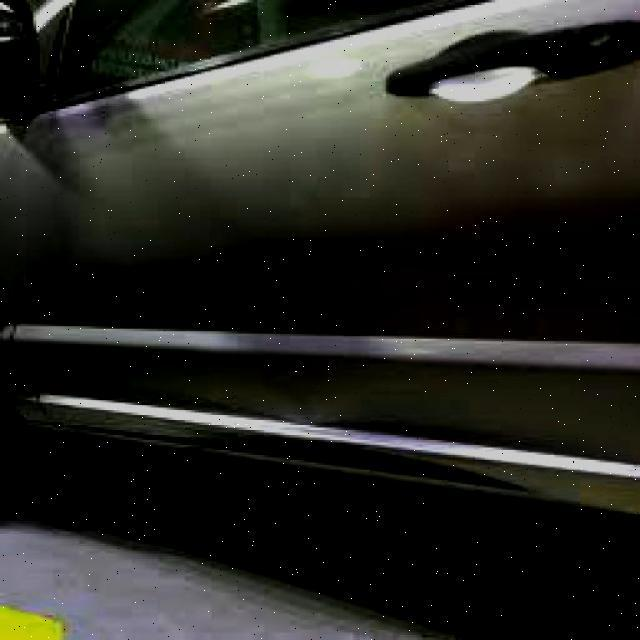car damage: (202, 234, 399, 425)
